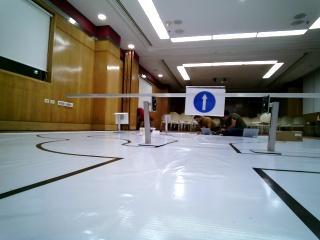straight: (185, 85, 224, 117)
